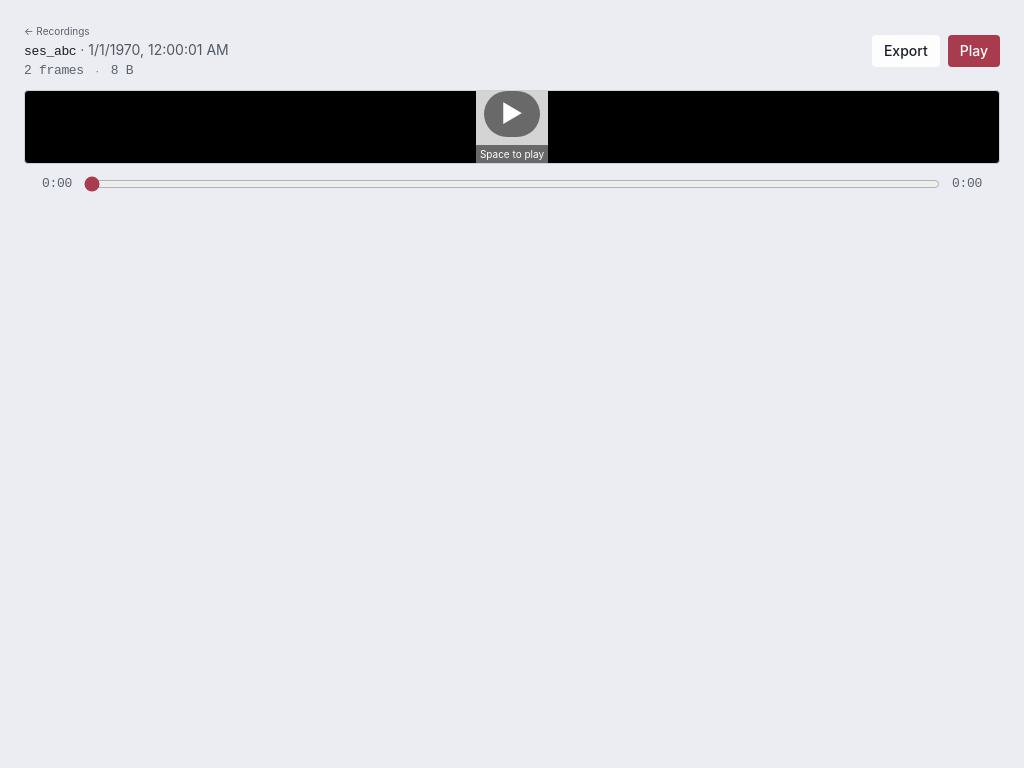
Test case: RecordingPlayerView — Space play/pause keyboard control › offers an Export button that confirms via a toast ONLY on a confirmed write
Click the button "Export" at (906, 51), box [872,35,940,67]
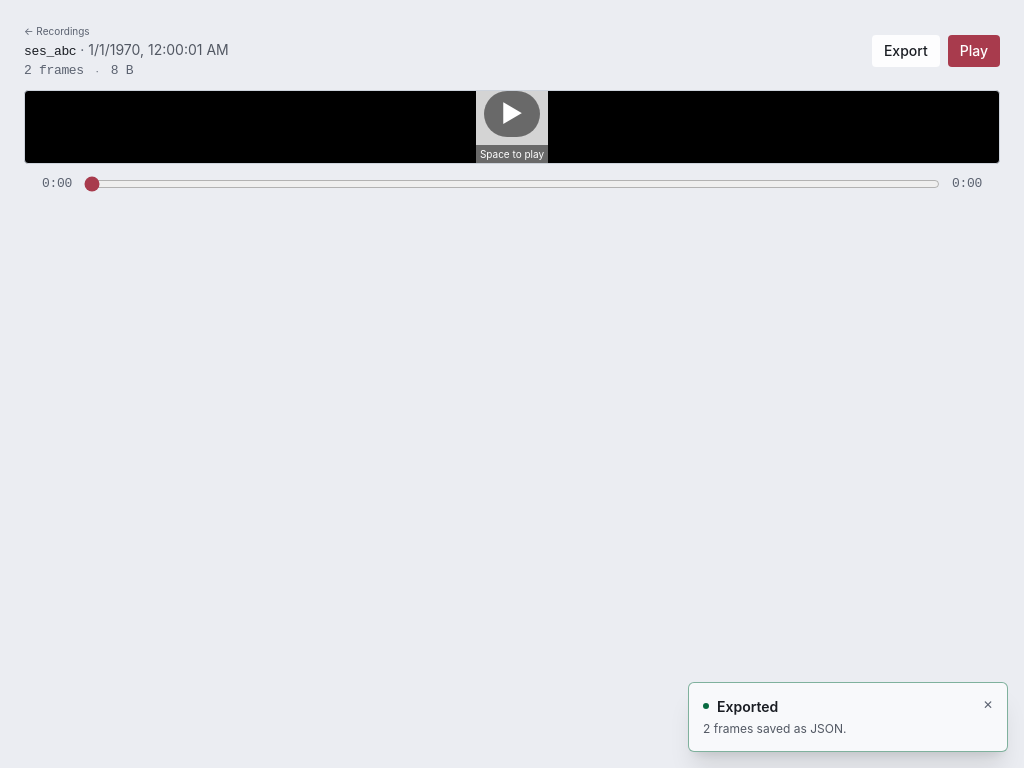
expect the text "Exported" is shown: met, box [717,698,778,715]
